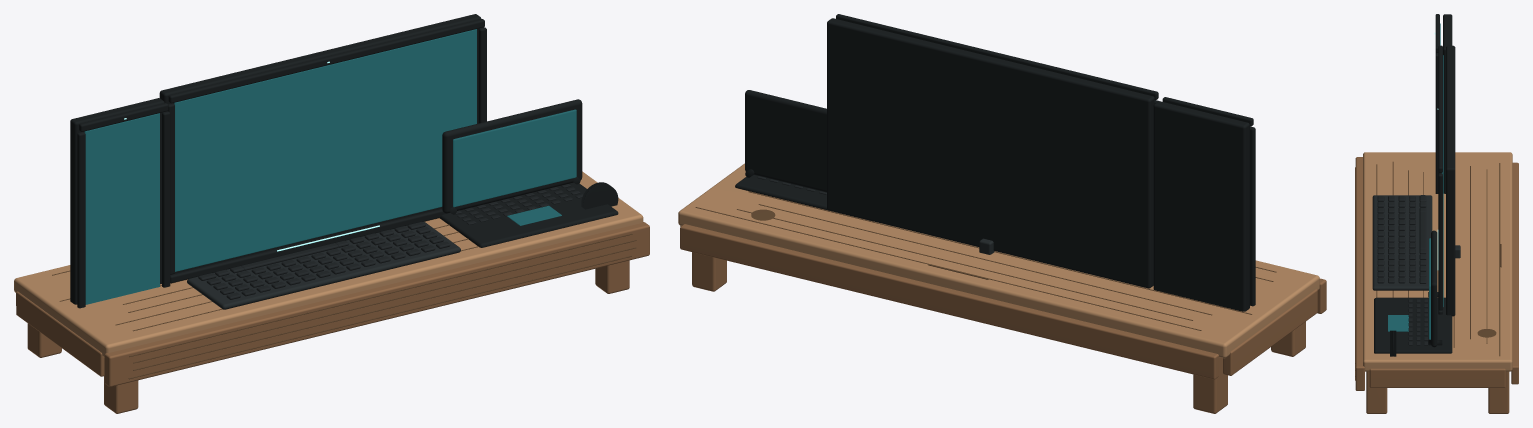
File: kraitos-open-desk.v2.glb
The picture shows the model from 3 angles, left to right: view 1: azimuth 30°, elevation 25°; view 2: azimuth 150°, elevation 25°; view 3: azimuth 270°, elevation 25°; orthographic projection. The views are drawn at different scales.
Visible parts, largest first — view 1: main_monitor_screen_recess, wood_front_apron, solid_wood_desktop, vertical_monitor_screen_recess, laptop_screen_recess, keyboard_deck, laptop_base, laptop_screen_frame, main_monitor_rear_shell, main_monitor_top_bezel, vertical_monitor_rear_shell, main_monitor_bottom_bezel (+15 smaller); view 2: main_monitor_rear_shell, solid_wood_desktop, vertical_monitor_rear_shell, wood_rear_apron, laptop_screen_frame, wood_left_apron, main_monitor_top_bezel, laptop_base, wood_leg_-3.86_-0.54, wood_leg_3.86_-0.54, vertical_monitor_left_bezel, desktop_long_grain_5 (+5 smaller); view 3: solid_wood_desktop, laptop_base, keyboard_deck, wood_right_apron, main_monitor_rear_shell, wood_front_apron, wood_rear_apron, laptop_screen_frame, vertical_monitor_rear_shell, main_monitor_right_bezel, wood_leg_3.86_-0.54, wood_leg_3.86_-2.62 (+11 smaller).
Boxes of the visible parts, bbox=[...] form: main_monitor_screen_recess: bbox=[174, 29, 476, 271]; wood_front_apron: bbox=[104, 222, 649, 386]; solid_wood_desktop: bbox=[14, 171, 643, 357]; vertical_monitor_screen_recess: bbox=[84, 113, 159, 304]; laptop_screen_recess: bbox=[453, 109, 576, 207]; keyboard_deck: bbox=[187, 221, 460, 309]; laptop_base: bbox=[440, 182, 618, 247]; laptop_screen_frame: bbox=[442, 99, 582, 213]; main_monitor_rear_shell: bbox=[159, 14, 481, 273]; main_monitor_top_bezel: bbox=[168, 19, 484, 103]; vertical_monitor_rear_shell: bbox=[70, 98, 164, 304]; main_monitor_bottom_bezel: bbox=[170, 204, 484, 283]; main_monitor_rear_shell: bbox=[827, 18, 1154, 288]; solid_wood_desktop: bbox=[678, 163, 1319, 358]; vertical_monitor_rear_shell: bbox=[1153, 101, 1249, 311]; wood_rear_apron: bbox=[680, 224, 1218, 379]; laptop_screen_frame: bbox=[745, 90, 826, 192]; wood_left_apron: bbox=[1223, 289, 1317, 375]; main_monitor_top_bezel: bbox=[836, 14, 1158, 99]; laptop_base: bbox=[735, 175, 870, 220]; wood_leg_-3.86_-0.54: bbox=[1193, 357, 1227, 413]; wood_leg_3.86_-0.54: bbox=[692, 252, 726, 291]; vertical_monitor_left_bezel: bbox=[1250, 126, 1255, 306]; desktop_long_grain_5: bbox=[748, 191, 1252, 314]; solid_wood_desktop: bbox=[1363, 152, 1512, 371]; laptop_base: bbox=[1374, 297, 1452, 353]; keyboard_deck: bbox=[1372, 195, 1432, 290]; wood_right_apron: bbox=[1369, 368, 1505, 387]; main_monitor_rear_shell: bbox=[1446, 45, 1455, 316]; wood_front_apron: bbox=[1355, 157, 1364, 390]; wood_rear_apron: bbox=[1511, 162, 1518, 384]; laptop_screen_frame: bbox=[1431, 230, 1437, 347]; vertical_monitor_rear_shell: bbox=[1443, 14, 1452, 193]; main_monitor_right_bezel: bbox=[1438, 173, 1442, 310]; wood_leg_3.86_-0.54: bbox=[1488, 371, 1509, 413]; wood_leg_3.86_-2.62: bbox=[1366, 371, 1387, 413].
Size of what is drawn, in the model's own units: 8.5 by 3.91 by 2.8.
